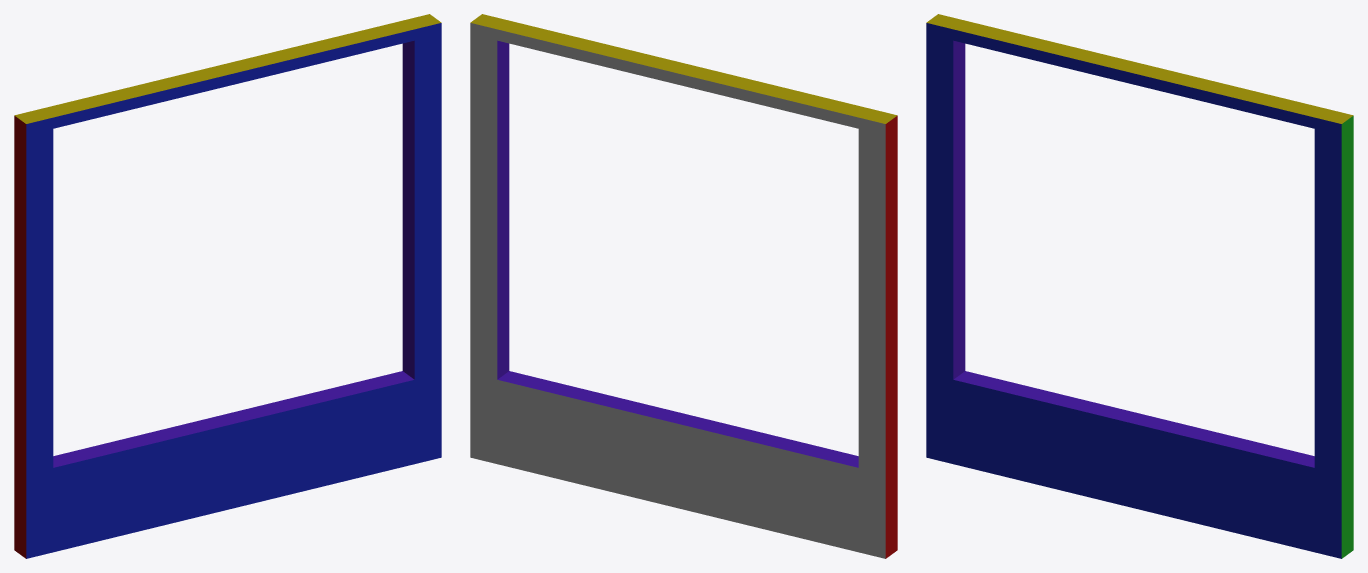
Rendered from Wall_Window_06a.fbx.
The picture shows the model from 3 angles, left to right: view 1: azimuth 30°, elevation 25°; view 2: azimuth 150°, elevation 25°; view 3: azimuth 330°, elevation 25°; orthographic projection.
Visible parts, largest first — view 1: Wall_Window_06a; view 2: Wall_Window_06a; view 3: Wall_Window_06a.
Boxes of the visible parts, bbox=[...] form: Wall_Window_06a: bbox=[14, 14, 441, 558]; Wall_Window_06a: bbox=[470, 14, 897, 558]; Wall_Window_06a: bbox=[926, 14, 1353, 558].
Size of the model in its own units: 3 by 0.15 by 3.
